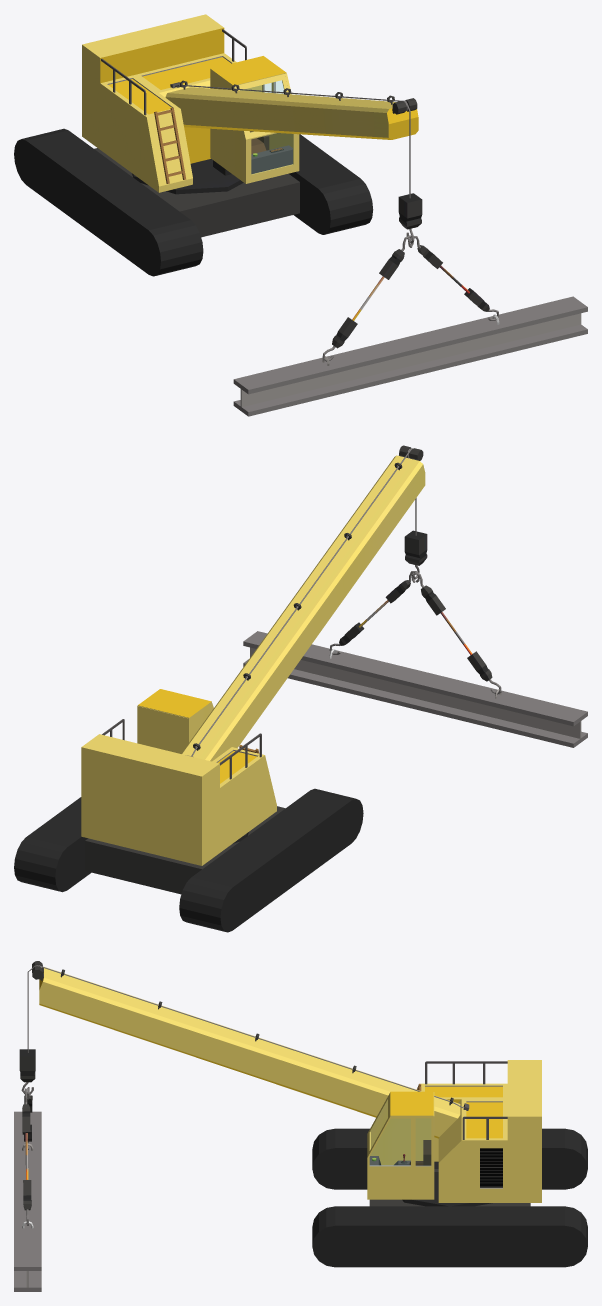
The model's file is cran2.fbx.
3 renders of one model, top to bottom at view 1: azimuth 30°, elevation 25°; view 2: azimuth 150°, elevation 25°; view 3: azimuth 270°, elevation 25°, orthographic. The views are drawn at different scales.
Parts seen in each view (by area): view 1: Cabin, Gusenica, Balka, Cran, Kruk.001, Kruk, Stairway, Kruk.002; view 2: Cabin, Gusenica, Cran, Balka, Kruk.001, Kruk, Kruk.002; view 3: Gusenica, Cabin, Cran, Balka, Door, Kruk.002, Kruk.
Boxes of the visible parts, <box> form: Cabin: <box>82,14,296,194</box>; Gusenica: <box>14,128,373,276</box>; Balka: <box>233,296,587,416</box>; Cran: <box>165,80,418,139</box>; Kruk.001: <box>322,235,414,361</box>; Kruk: <box>398,193,422,243</box>; Stairway: <box>154,107,186,183</box>; Kruk.002: <box>408,236,499,320</box>; Cabin: <box>81,689,276,865</box>; Gusenica: <box>14,788,363,932</box>; Cran: <box>181,445,425,761</box>; Balka: <box>243,631,587,747</box>; Kruk.001: <box>411,572,501,694</box>; Kruk: <box>404,530,427,579</box>; Kruk.002: <box>329,571,419,654</box>; Gusenica: <box>312,1128,587,1267</box>; Cabin: <box>367,1060,541,1206</box>; Cran: <box>32,961,469,1138</box>; Balka: <box>14,1111,41,1291</box>; Door: <box>367,1116,413,1199</box>; Kruk.002: <box>22,1088,31,1225</box>; Kruk: <box>19,1049,35,1094</box>.
Size of the model in its own units: 1600 by 1198 by 2498.
